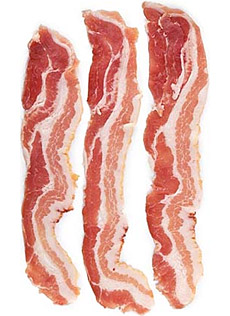bacon: (76, 7, 155, 316), (145, 1, 216, 313), (18, 28, 86, 313)
